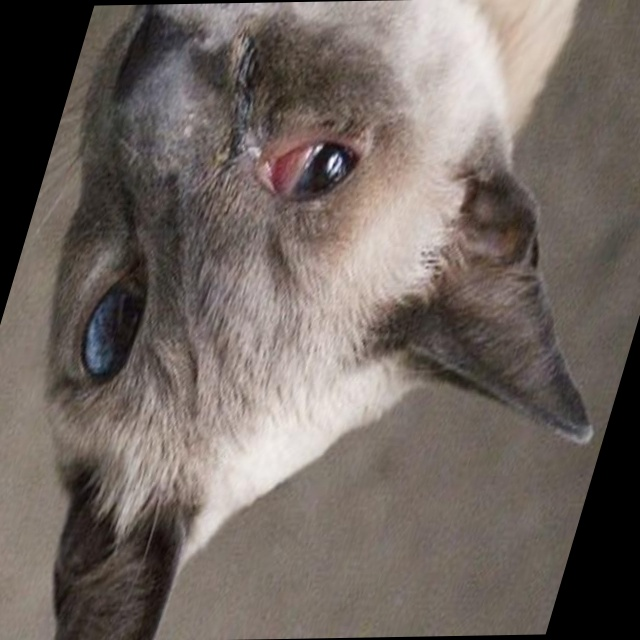eye_infection: (245, 142, 373, 201)
